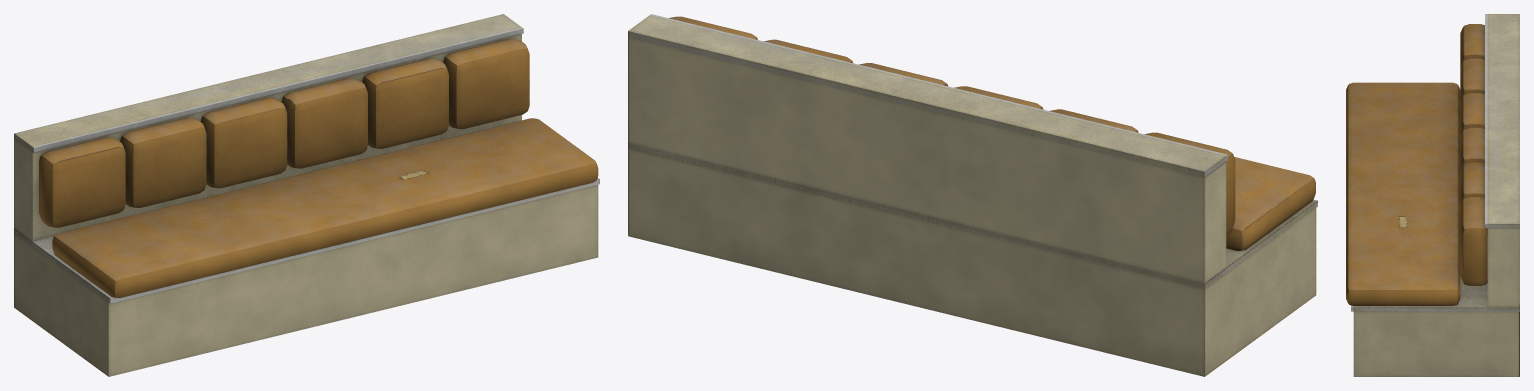
File: H_KitchenBench.fbx
3 renders of one model, left to right at view 1: azimuth 30°, elevation 25°; view 2: azimuth 150°, elevation 25°; view 3: azimuth 270°, elevation 25°, orthographic. The views are drawn at different scales.
Parts seen in each view (by area): view 1: H_KitchenBench; view 2: H_KitchenBench; view 3: H_KitchenBench.
Boxes of the visible parts, left/top/right/bottom form: H_KitchenBench: left=14, top=14, right=599, bottom=376; H_KitchenBench: left=628, top=14, right=1317, bottom=376; H_KitchenBench: left=1346, top=14, right=1519, bottom=376.
Size of the model in its own units: 1000 by 340 by 350.
1 material, 1 textured.
